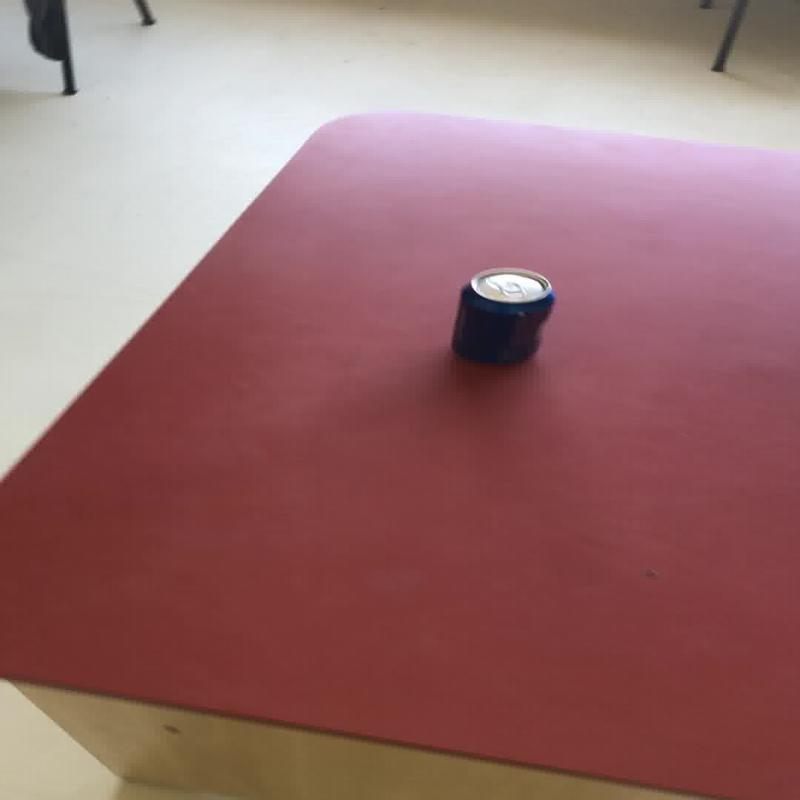tonic: (448, 266, 555, 364)
